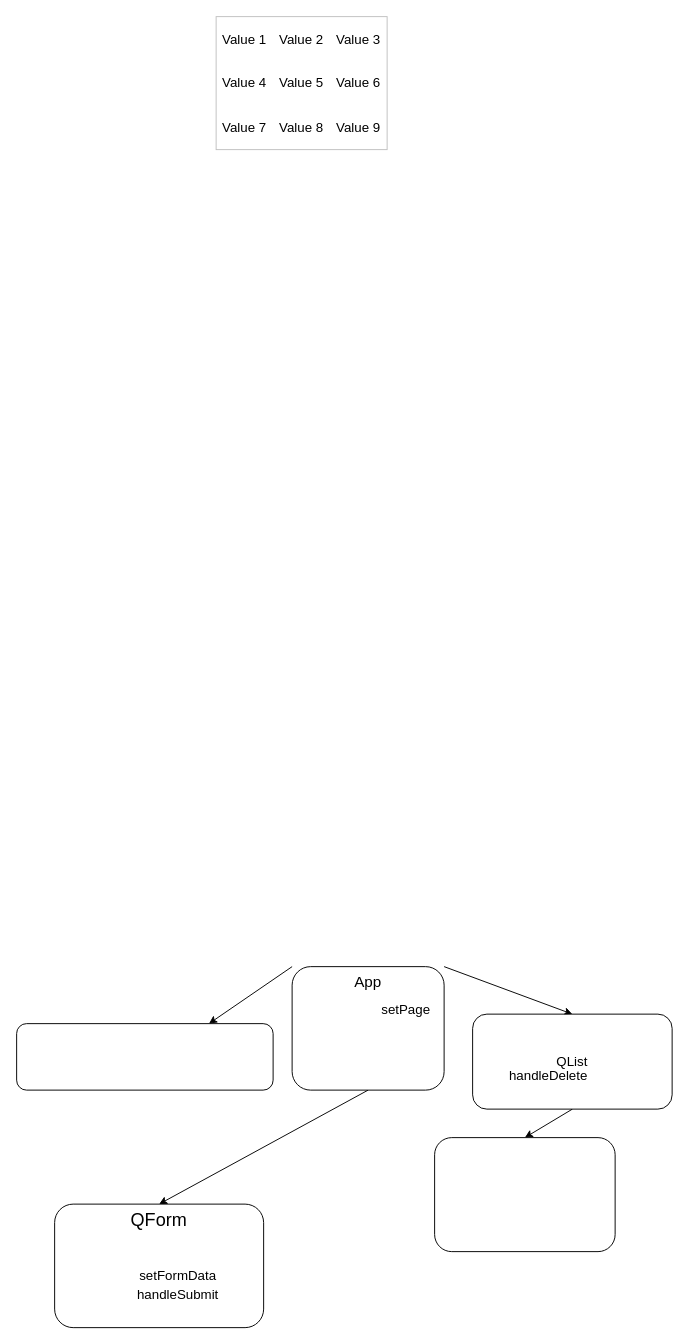
The diagram is 689 pixels wide and 1344 high, and some of its shapes have lost their labels. The centre of each missing label's shape, as x and y in pixels:
"AdminNav" goes at point 144,1056.
"QItem" goes at point 524,1194.
